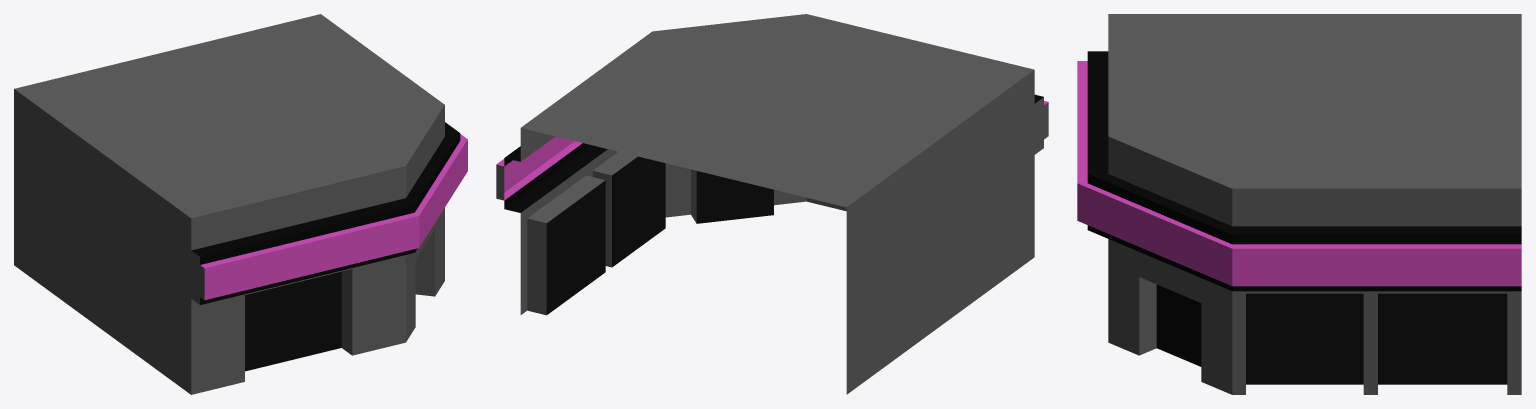
File: Edificio-4.fbx
3 views of the same model, side by side, from view 1: azimuth 30°, elevation 25°; view 2: azimuth 150°, elevation 25°; view 3: azimuth 270°, elevation 25° (orthographic). The views are drawn at different scales.
Visible parts, largest first — view 1: Plane; view 2: Plane; view 3: Plane.
Boxes of the visible parts, bbox=[...] form: Plane: bbox=[14, 14, 467, 394]; Plane: bbox=[496, 14, 1048, 394]; Plane: bbox=[1077, 14, 1521, 394].
Bounding box in the file's own units: 1075 × 550 × 1075.
